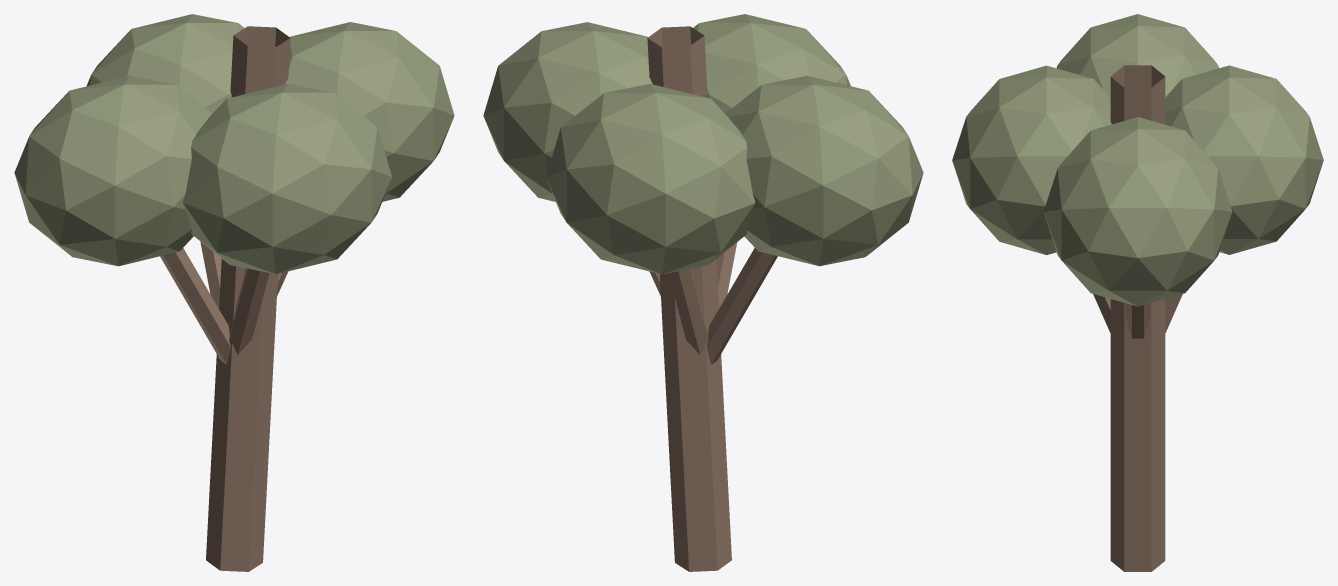
3 views of the same model, side by side, from view 1: azimuth 30°, elevation 25°; view 2: azimuth 150°, elevation 25°; view 3: azimuth 270°, elevation 25° (orthographic). The views are drawn at different scales.
Visible parts, largest first — view 1: T18; view 2: T18; view 3: T18.
Part boxes in pixels (left/top/right/bottom): T18: left=14, top=14, right=454, bottom=571; T18: left=483, top=14, right=923, bottom=571; T18: left=952, top=14, right=1323, bottom=571.
Bounding box in the file's own units: 1.52 × 1.81 × 1.22.
